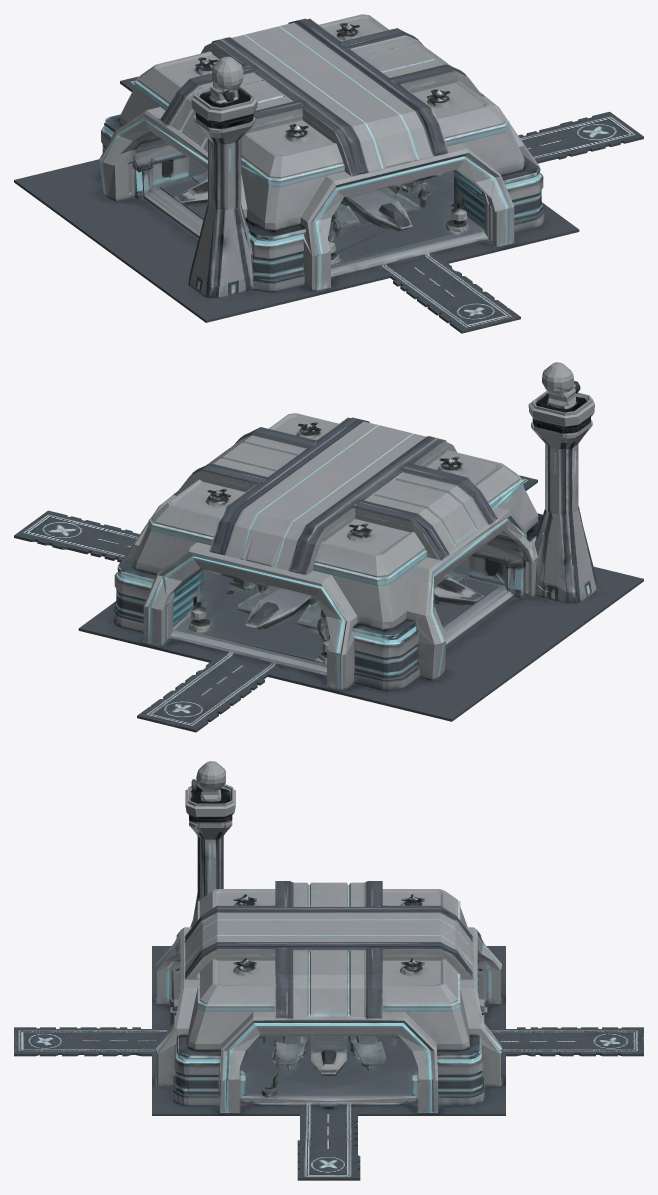
The model's file is hangar_LOD0.glb.
3 renders of one model, top to bottom at view 1: azimuth 30°, elevation 25°; view 2: azimuth 150°, elevation 25°; view 3: azimuth 270°, elevation 25°, orthographic. The views are drawn at different scales.
Visible parts, largest first — view 1: hangar_LOD0; view 2: hangar_LOD0; view 3: hangar_LOD0.
Part boxes in pixels (x1,y1,x2,y2): hangar_LOD0: [14, 14, 643, 333]; hangar_LOD0: [14, 362, 643, 732]; hangar_LOD0: [14, 761, 643, 1180].
Size of the model in its own units: 0.8728 by 0.3679 by 1.
1 material, 1 textured.
